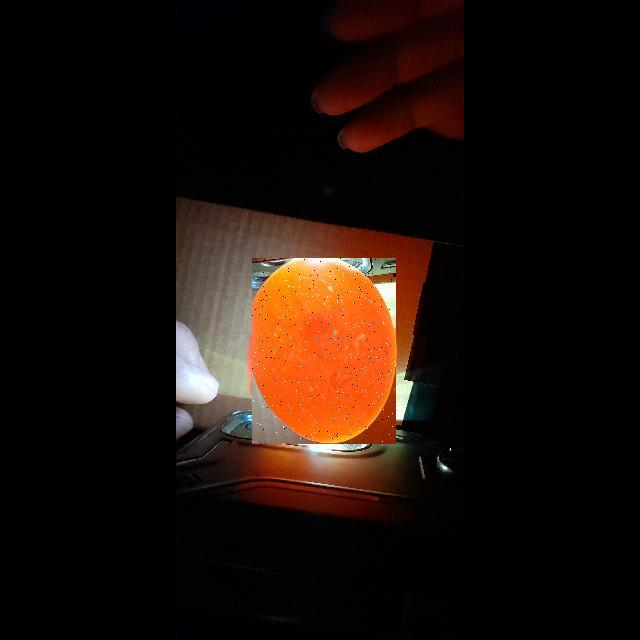Fertile: (252, 258, 396, 444)
